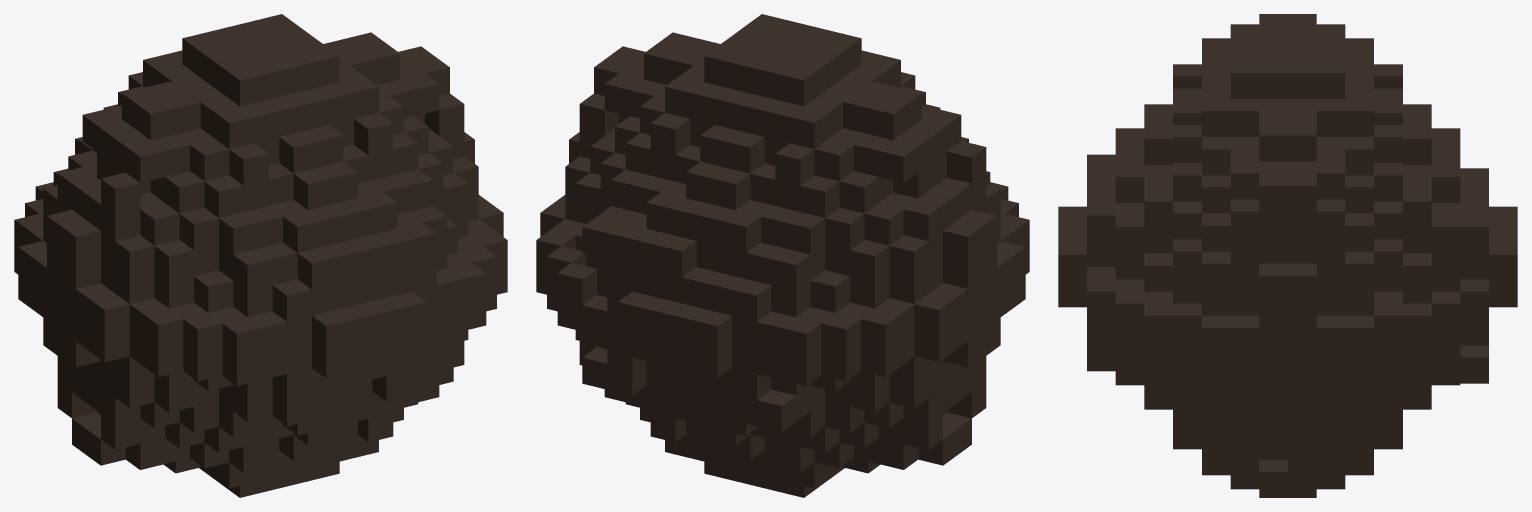
File: AsteroidLarge.obj
3 renders of one model, left to right at view 1: azimuth 30°, elevation 25°; view 2: azimuth 150°, elevation 25°; view 3: azimuth 270°, elevation 25°, orthographic.
Size of the model in its own units: 1.6 by 1.6 by 1.6.
1 material, 1 textured.
